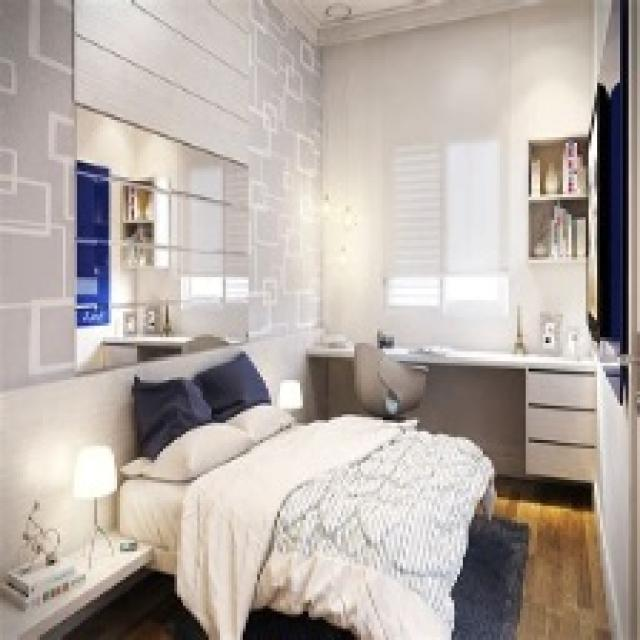Bed: (114, 412, 497, 637)
